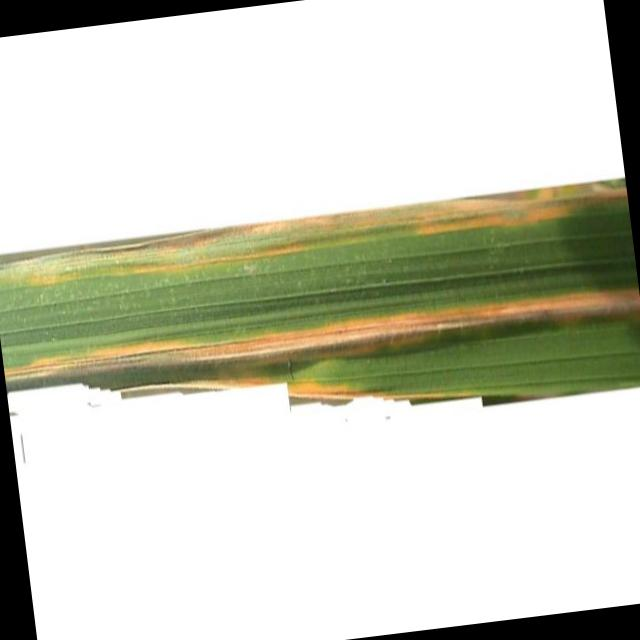Rice_Bacterial_Blight: (11, 260, 640, 435), (0, 142, 621, 313)
